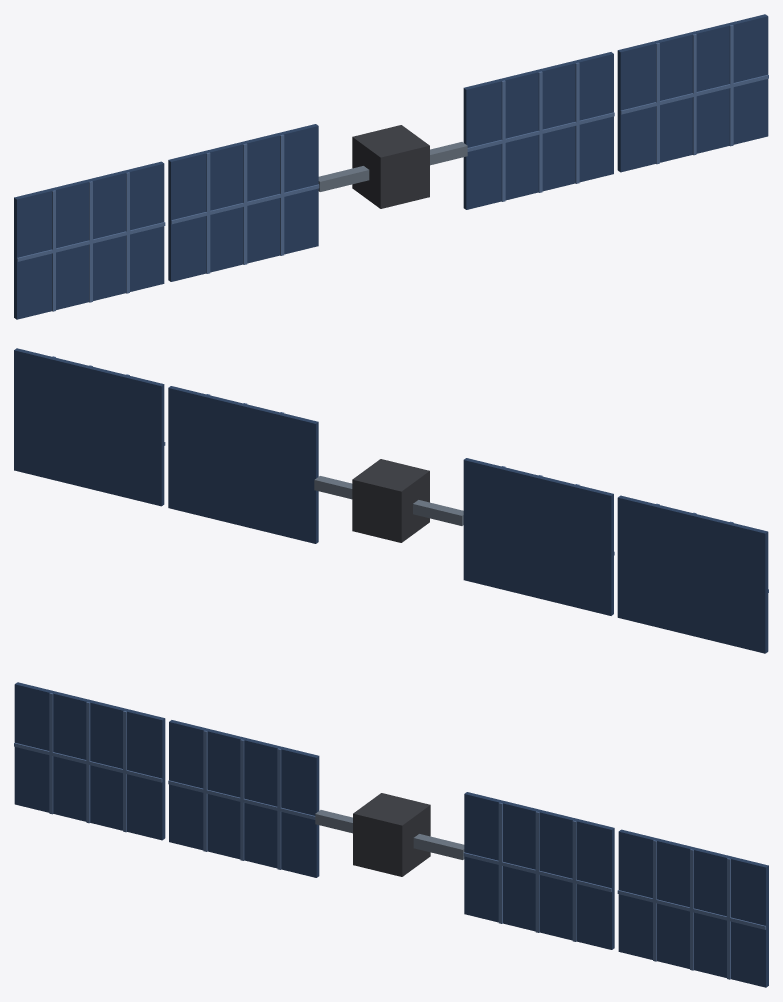
File: Pow_Solar_S.fbx
The picture shows the model from 3 angles, top to bottom: view 1: azimuth 30°, elevation 25°; view 2: azimuth 150°, elevation 25°; view 3: azimuth 330°, elevation 25°; orthographic projection.
Visible parts, largest first — view 1: Pow_Solar_S; view 2: Pow_Solar_S; view 3: Pow_Solar_S.
Part boxes in pixels (x1,y1,x2,y2): Pow_Solar_S: (14, 14, 768, 319); Pow_Solar_S: (14, 348, 768, 653); Pow_Solar_S: (14, 682, 768, 987).
Size of the model in its own units: 4.58 by 0.7 by 0.3.
Materials: 1 (1 with a texture image).
